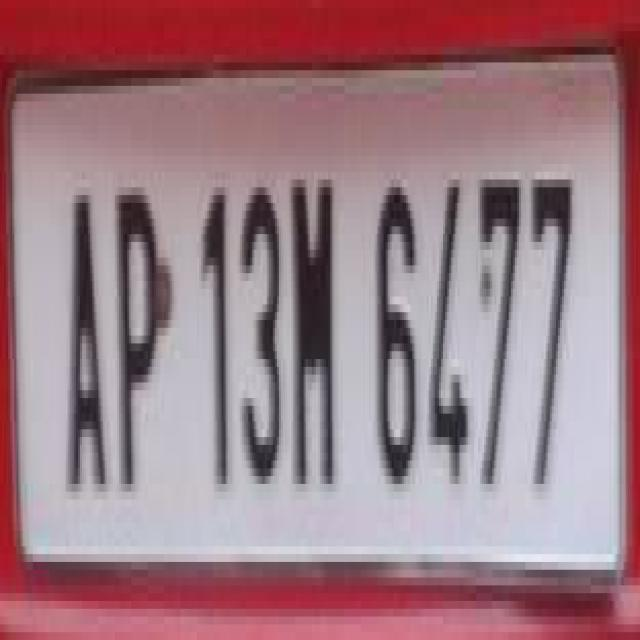license_plate: (29, 47, 634, 585)
